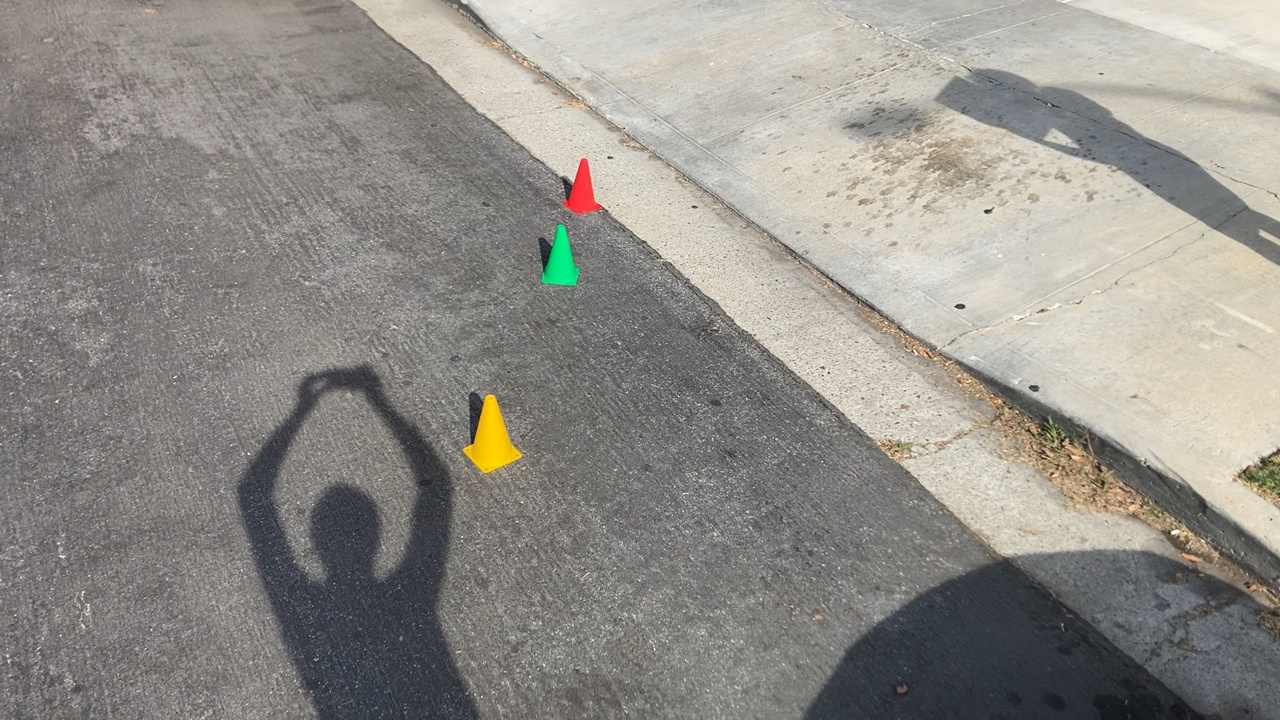green_cone: (536, 222, 584, 289)
red_cone: (560, 154, 606, 219)
yellow_cone: (462, 391, 528, 475)
